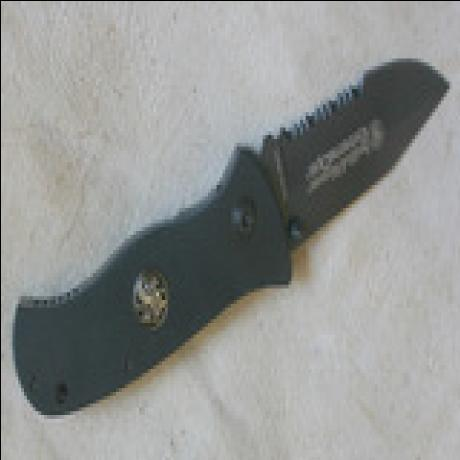weapon: (8, 53, 454, 424)
